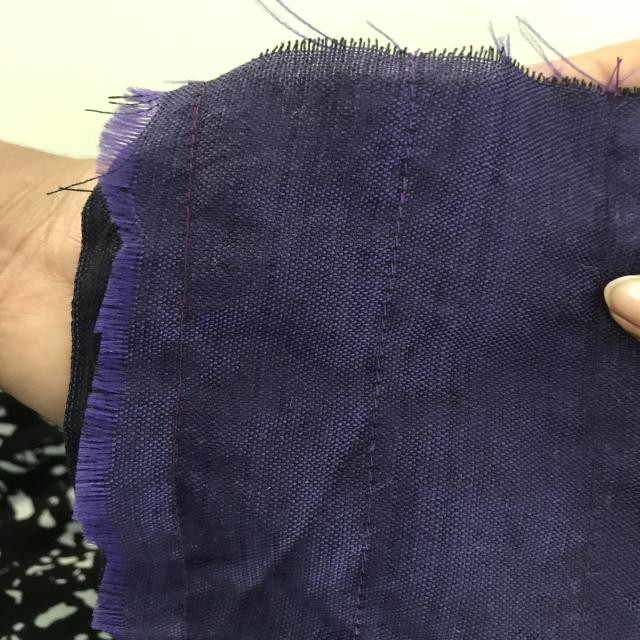good: (377, 194, 430, 278)
